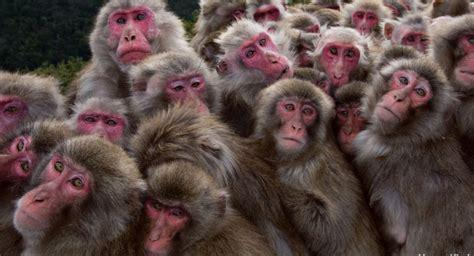monkey: (366, 47, 474, 256), (259, 81, 382, 256), (15, 136, 139, 256), (142, 166, 271, 256), (76, 1, 191, 100), (130, 52, 219, 126), (217, 19, 297, 81), (1, 121, 63, 189), (314, 29, 374, 82), (334, 82, 377, 154), (70, 97, 128, 145), (383, 14, 432, 57), (343, 1, 391, 36)
